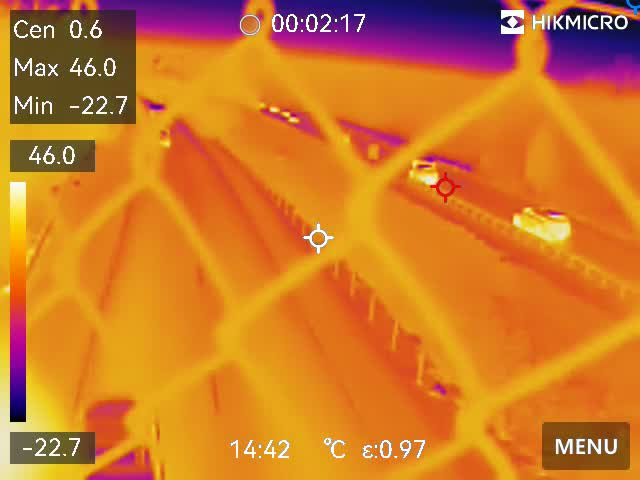largeCar: (503, 199, 575, 245)
vehicle: (77, 395, 180, 480), (408, 156, 440, 189), (286, 116, 303, 124), (277, 109, 282, 115)
